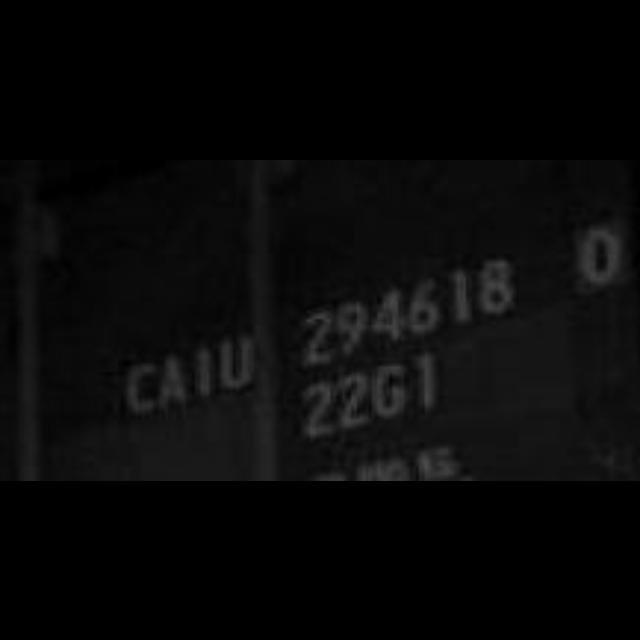0: (578, 221, 624, 289)
1: (443, 261, 472, 335), (411, 350, 445, 412)
2: (301, 376, 337, 442), (300, 308, 336, 369), (340, 372, 370, 428)
4: (372, 282, 406, 348)
6: (408, 274, 444, 340), (374, 358, 408, 424)
8: (478, 253, 518, 320)
9: (335, 298, 371, 357)
a: (160, 352, 188, 413)
c: (126, 359, 162, 416)
i: (193, 341, 215, 403)
u: (218, 334, 254, 392)
